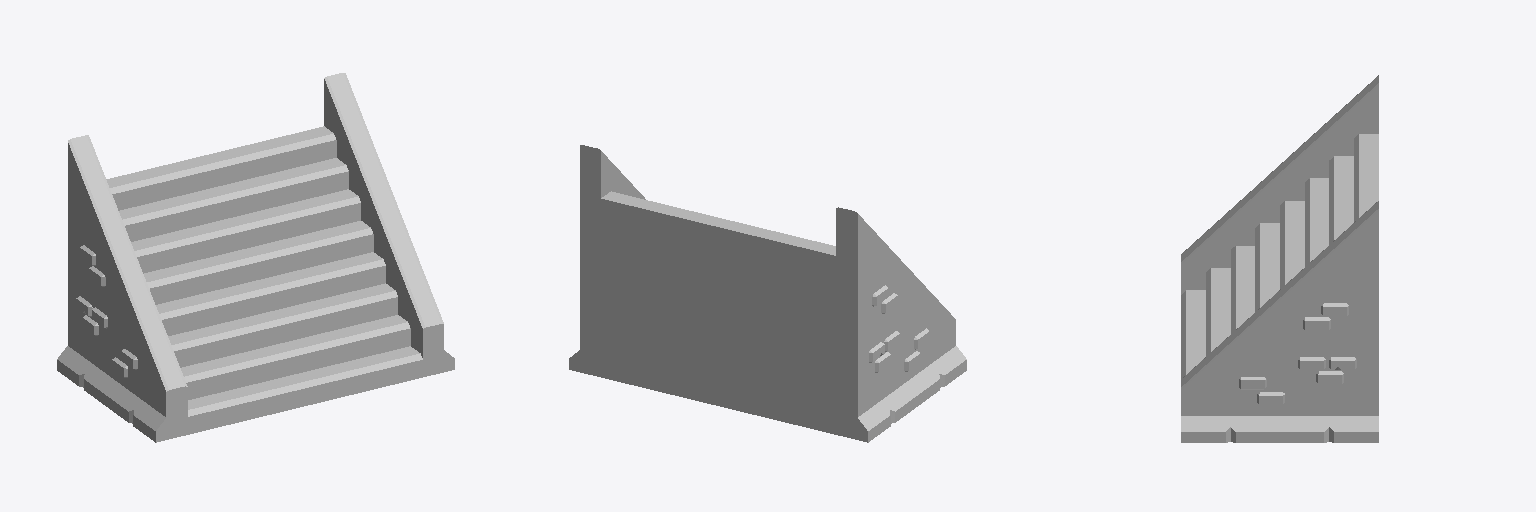
Rendered from stairs_wide.obj.
3 renders of one model, left to right at view 1: azimuth 30°, elevation 25°; view 2: azimuth 150°, elevation 25°; view 3: azimuth 270°, elevation 25°, orthographic.
Visible parts, largest first — view 1: stairs_wide_Cube.13696; view 2: stairs_wide_Cube.13696; view 3: stairs_wide_Cube.13696.
Boxes of the visible parts, <box> form: stairs_wide_Cube.13696: <box>57,73,454,442</box>; stairs_wide_Cube.13696: <box>569,145,966,442</box>; stairs_wide_Cube.13696: <box>1181,75,1378,442</box>.
Size of the model in its own units: 7 by 5.1 by 4.